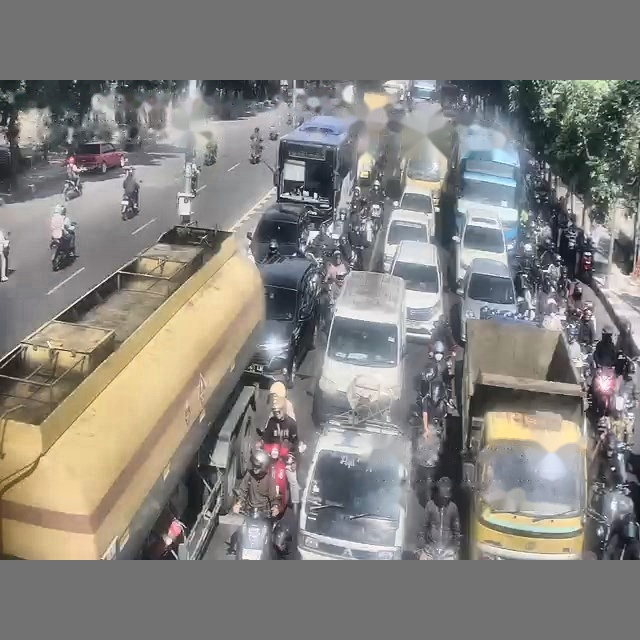Bis: (274, 115, 362, 218)
Mobil: (297, 420, 410, 559), (313, 271, 406, 421), (245, 257, 320, 387), (391, 241, 443, 340), (456, 258, 517, 342), (452, 212, 508, 282), (247, 203, 310, 261), (382, 209, 430, 272), (405, 150, 445, 211), (74, 142, 126, 173), (394, 184, 434, 217), (411, 80, 437, 102)
Motor: (50, 236, 74, 271), (121, 193, 137, 220), (249, 143, 262, 163), (203, 147, 216, 165)
Truk: (0, 226, 264, 559), (460, 319, 587, 559)
